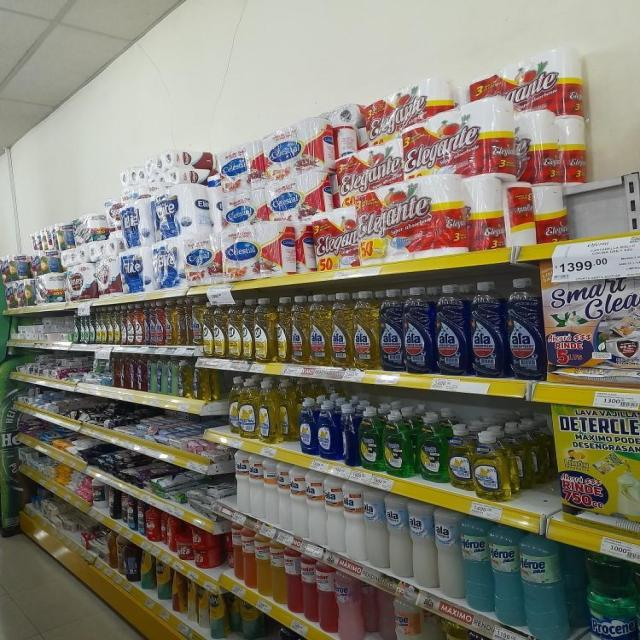ala_conc_amarillo: (354, 290, 378, 370), (331, 292, 353, 368), (310, 293, 330, 366), (292, 294, 309, 365), (190, 297, 202, 347), (174, 299, 186, 345), (165, 300, 175, 346)
ala_conc_azul: (506, 276, 543, 380), (470, 280, 505, 378), (435, 284, 468, 376), (404, 286, 434, 374), (379, 287, 404, 372)
ala_conc_rojo: (150, 300, 164, 346), (132, 304, 142, 346), (139, 302, 148, 346), (146, 302, 154, 346)
ala_crem_blanco: (436, 508, 461, 598), (410, 500, 434, 589), (388, 494, 410, 576), (364, 488, 386, 538), (290, 465, 306, 531), (308, 470, 324, 532), (250, 455, 265, 518), (264, 458, 278, 524), (236, 451, 250, 513), (278, 461, 290, 529), (344, 480, 363, 514), (325, 474, 343, 508)
cif_conc_bot_amarilla: (254, 297, 274, 363), (276, 296, 291, 364), (227, 299, 241, 360), (242, 297, 254, 361), (213, 300, 226, 358), (203, 298, 213, 358), (109, 305, 115, 344)
heroe: (490, 523, 520, 623), (462, 515, 489, 610), (337, 573, 362, 640), (394, 600, 419, 640)
magistral_con_amarillo: (474, 428, 510, 501), (449, 423, 473, 491), (259, 377, 278, 443), (240, 376, 258, 439)
magistral_con_azul: (317, 398, 339, 461), (341, 402, 358, 466), (299, 397, 316, 455)
